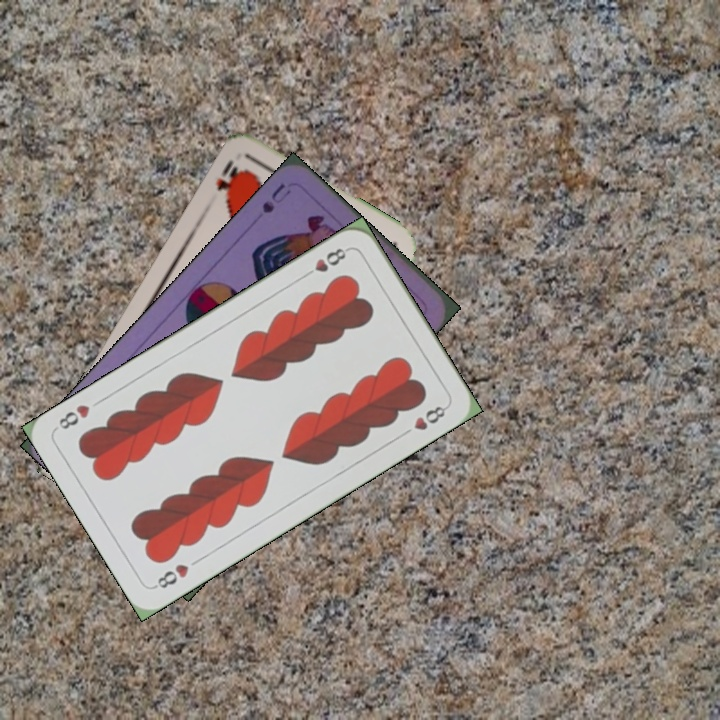H8: (299, 243, 352, 281), (149, 560, 192, 592)
HO: (212, 156, 244, 200)
SU: (258, 179, 294, 216)
